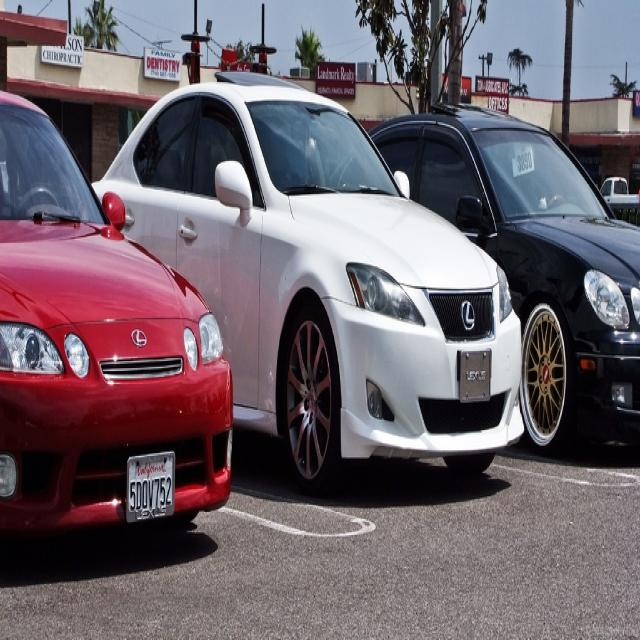car: (91, 69, 525, 502)
